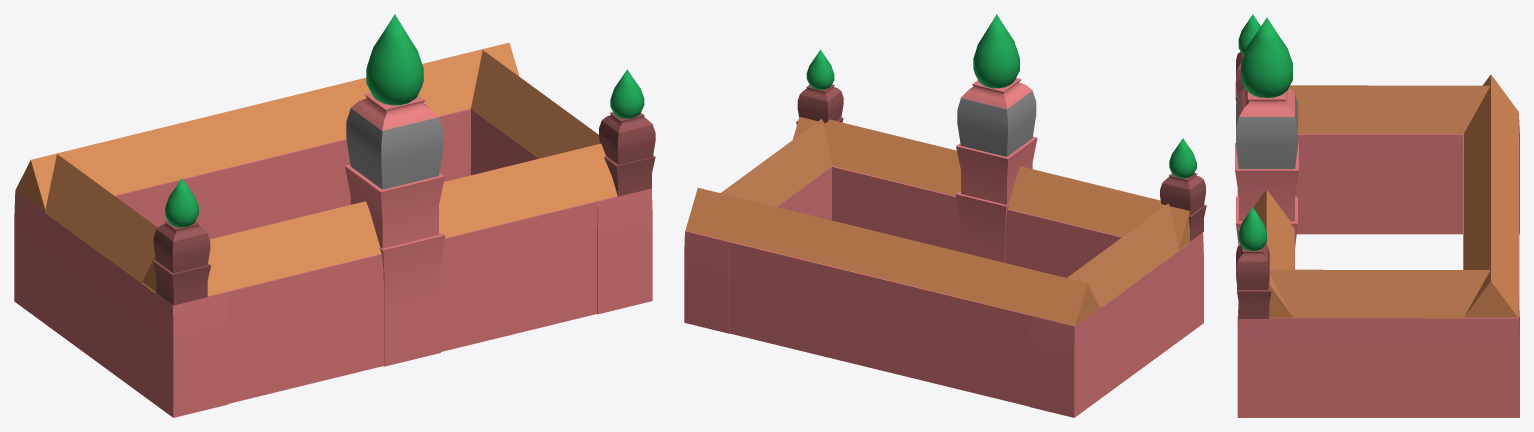
Rendered from poland.DAE.
3 views of the same model, side by side, from view 1: azimuth 30°, elevation 25°; view 2: azimuth 150°, elevation 25°; view 3: azimuth 270°, elevation 25° (orthographic). The views are drawn at different scales.
Visible parts, largest first — view 1: polandWallFour, polandRoofOne, polandRoofFour, polandWallOne, polandWallThree, polandWallFive, polandWallTwo, polandRoofTwo001, polandClockBase, polandRoofTwo, polandClockFace, polandClockBody (+10 smaller); view 2: polandWallFive, polandRoofOne, polandWallFour, polandRoofFour, polandWallOne, polandWallTwo, polandWallThree, polandRoofTwo001, polandRoofTwo, polandClockFace, polandClockBody, polandClockBase (+6 smaller); view 3: polandWallTwo, polandWallFour, polandRoofOne, polandRoofTwo, polandRoofTwo001, polandClockFace, polandCenterPoint, polandRoofFour, polandClockBody, polandCentrePointBase, polandWallSeven, polandWallSix (+5 smaller).
Part boxes in pixels (x1=…): polandWallFour: x1=14, y1=190, x2=228, y2=417; polandRoofOne: x1=15, y1=42, x2=519, y2=211; polandRoofFour: x1=142, y1=143, x2=617, y2=303; polandWallOne: x1=439, y1=201, x2=597, y2=352; polandWallThree: x1=222, y1=254, x2=383, y2=403; polandWallFive: x1=114, y1=108, x2=470, y2=239; polandWallTwo: x1=471, y1=109, x2=652, y2=314; polandRoofTwo001: x1=45, y1=154, x2=157, y2=292; polandClockBase: x1=379, y1=232, x2=445, y2=366; polandRoofTwo: x1=470, y1=50, x2=599, y2=158; polandClockFace: x1=346, y1=108, x2=443, y2=189; polandClockBody: x1=345, y1=164, x2=444, y2=248; polandWallFive: x1=725, y1=241, x2=1033, y2=406; polandRoofOne: x1=685, y1=188, x2=1099, y2=325; polandWallFour: x1=1029, y1=232, x2=1203, y2=417; polandRoofFour: x1=793, y1=117, x2=1201, y2=249; polandWallOne: x1=832, y1=166, x2=959, y2=251; polandWallTwo: x1=684, y1=167, x2=831, y2=333; polandWallThree: x1=1005, y1=209, x2=1121, y2=277; polandRoofTwo001: x1=1067, y1=203, x2=1190, y2=307; polandRoofTwo: x1=720, y1=119, x2=832, y2=206; polandClockFace: x1=957, y1=91, x2=1036, y2=156; polandClockBody: x1=956, y1=136, x2=1037, y2=204; polandClockBase: x1=955, y1=192, x2=1009, y2=262; polandWallTwo: x1=1237, y1=297, x2=1519, y2=417; polandWallFour: x1=1237, y1=111, x2=1519, y2=234; polandRoofOne: x1=1464, y1=74, x2=1518, y2=317; polandRoofTwo: x1=1269, y1=269, x2=1490, y2=318; polandRoofTwo001: x1=1289, y1=85, x2=1489, y2=133; polandClockFace: x1=1236, y1=93, x2=1297, y2=168; polandCenterPoint: x1=1241, y1=17, x2=1292, y2=97; polandRoofFour: x1=1239, y1=190, x2=1293, y2=317; polandClockBody: x1=1235, y1=143, x2=1298, y2=221; polandCentrePointBase: x1=1239, y1=87, x2=1294, y2=116; polandWallSeven: x1=1236, y1=247, x2=1269, y2=289; polandWallSix: x1=1237, y1=284, x2=1271, y2=318.
Size of the model in its own units: 26.47 by 15.21 by 17.49.
